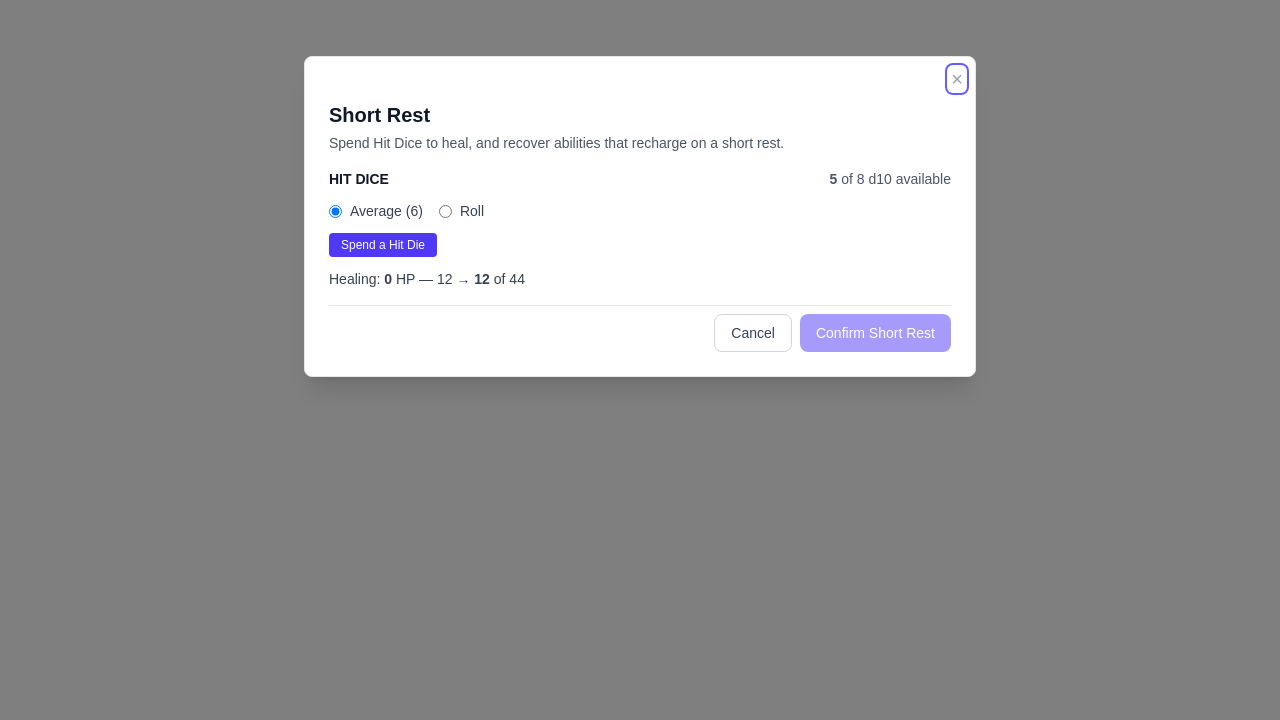
Test: ShortRestDialog (VEG-487) › rolls the die in roll mode using the injected rng
What coordinates should you click on to do the following:
click the radio button labelled "Roll"
I would click on:
 (445, 211)
Its box is [439,204,452,218].
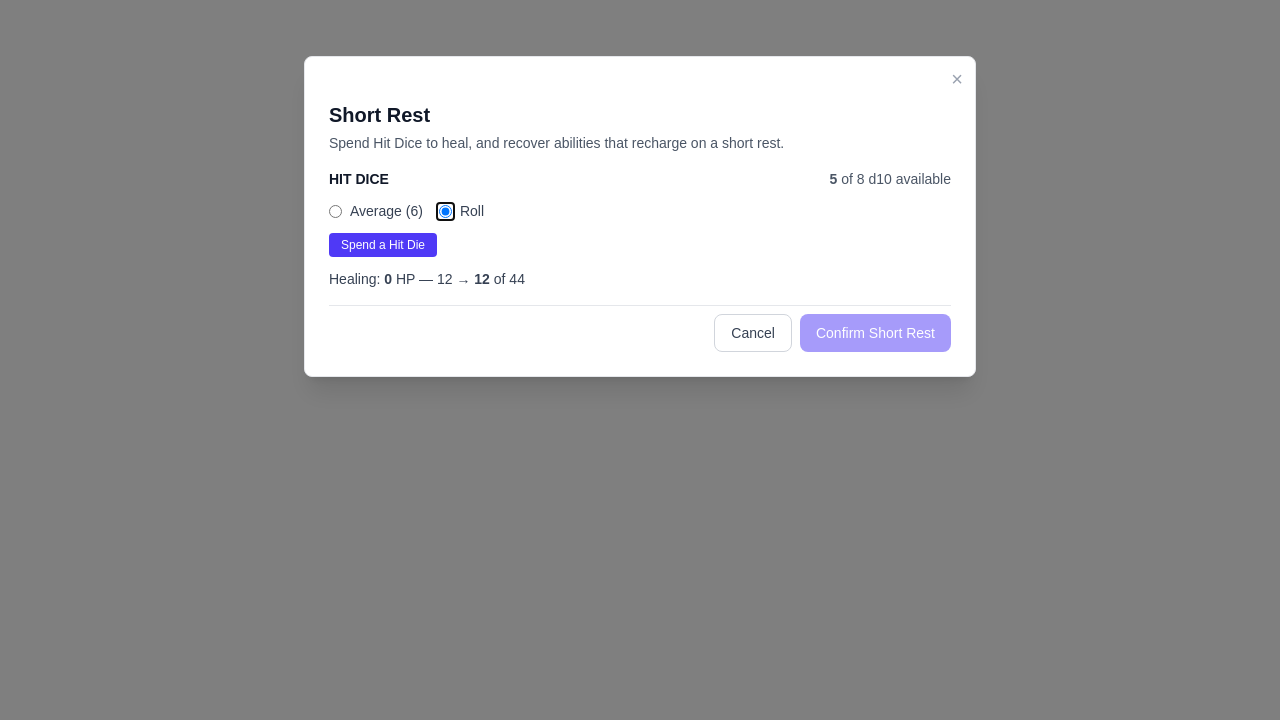
What coordinates should you click on to do the following:
click the button "Spend a Hit Die"
I would click on:
 (383, 245)
Its box is [329,233,437,257].
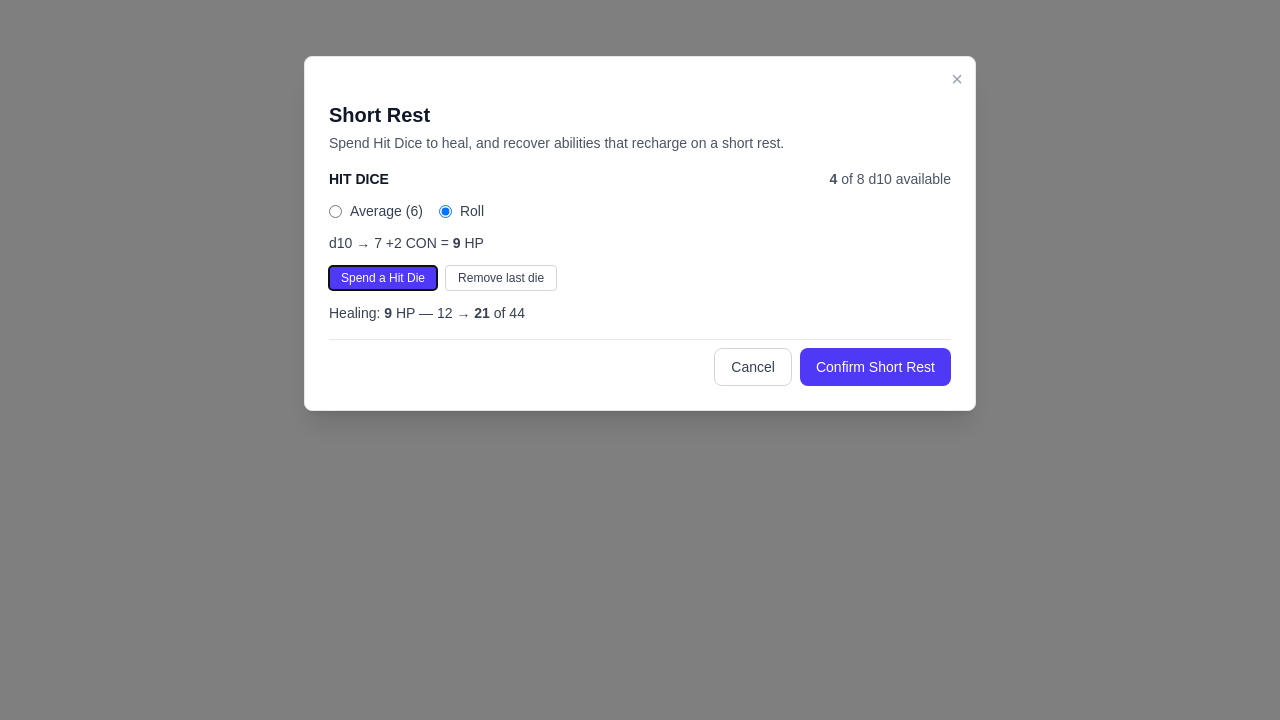
Check: the text with test id "heal-total" reads "9", box [384,305,392,321]
Check: the list item with test id "die-row-0" shows "7", box [374,235,382,251]
